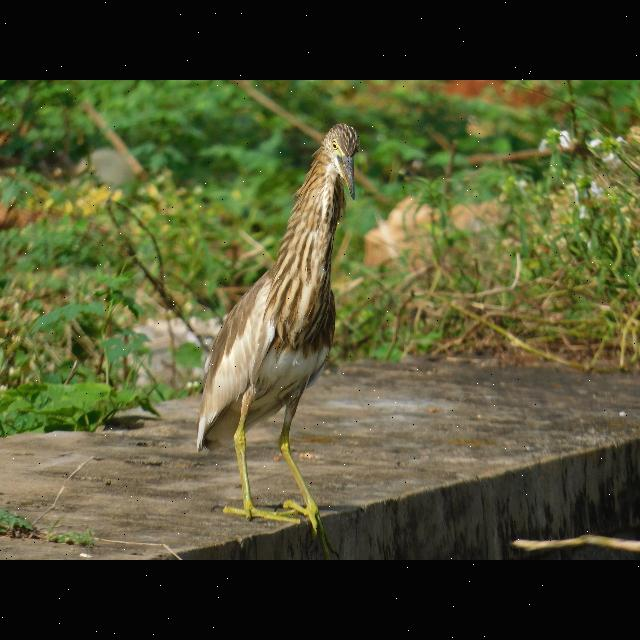heron: (192, 106, 382, 560)
